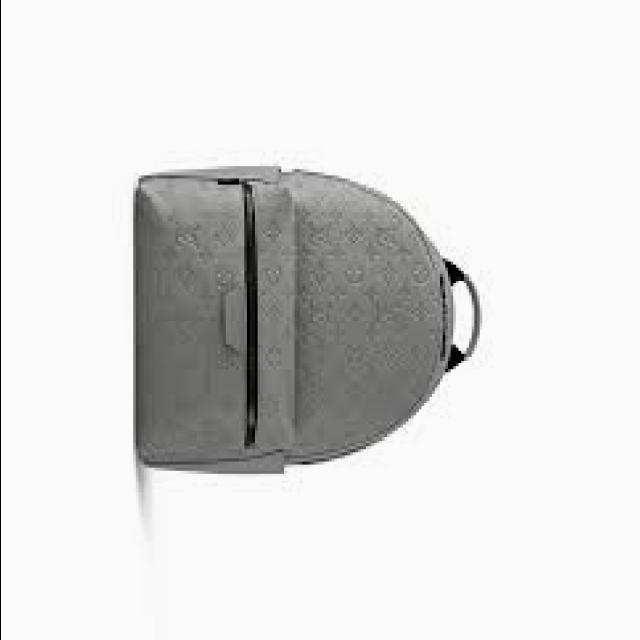backpack: (136, 164, 485, 475)
